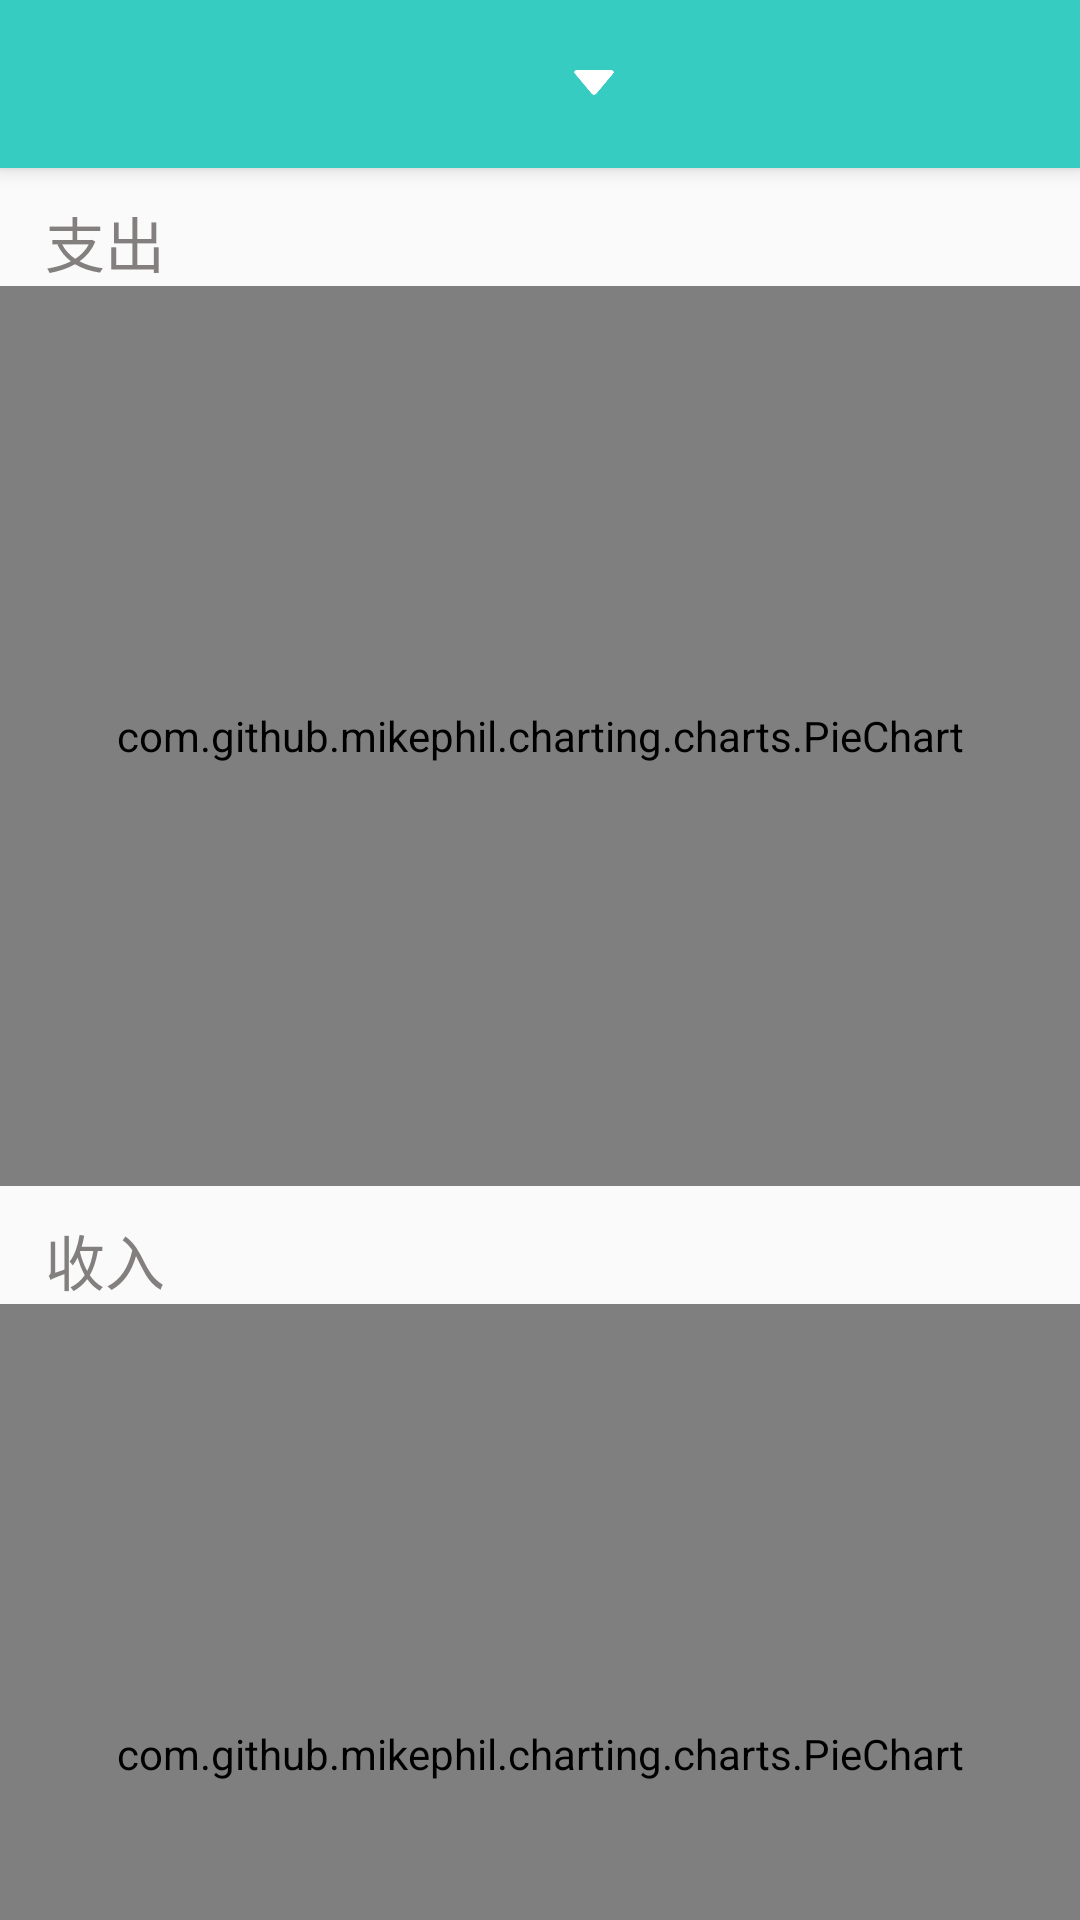

Icon click points for this 1080w x 1920h phone screenshot, format point (x, y):
down: point (594, 82)
